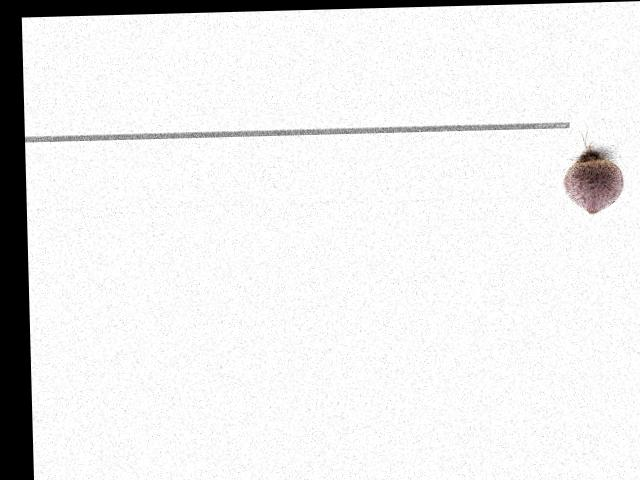beet: (561, 124, 624, 215)
